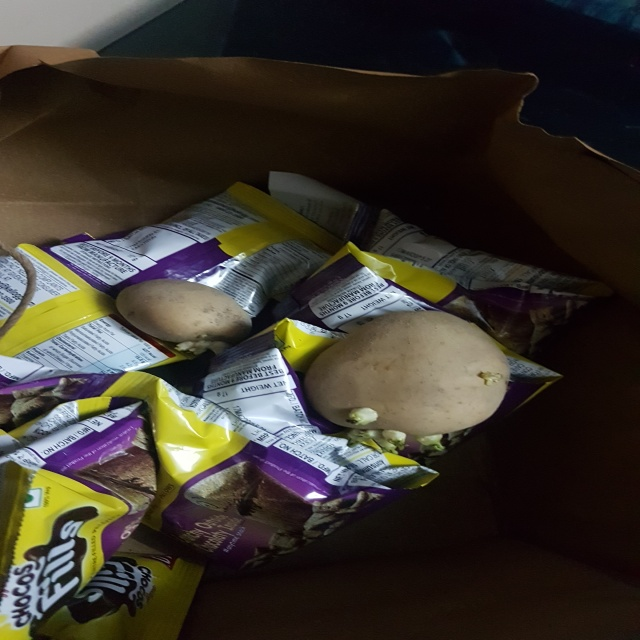potato: (302, 308, 521, 454), (115, 273, 257, 362)
